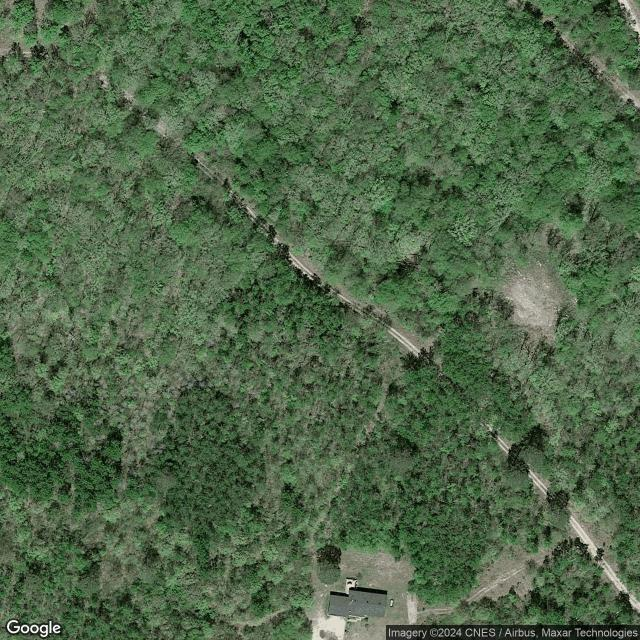Propane: (389, 599, 394, 608)
